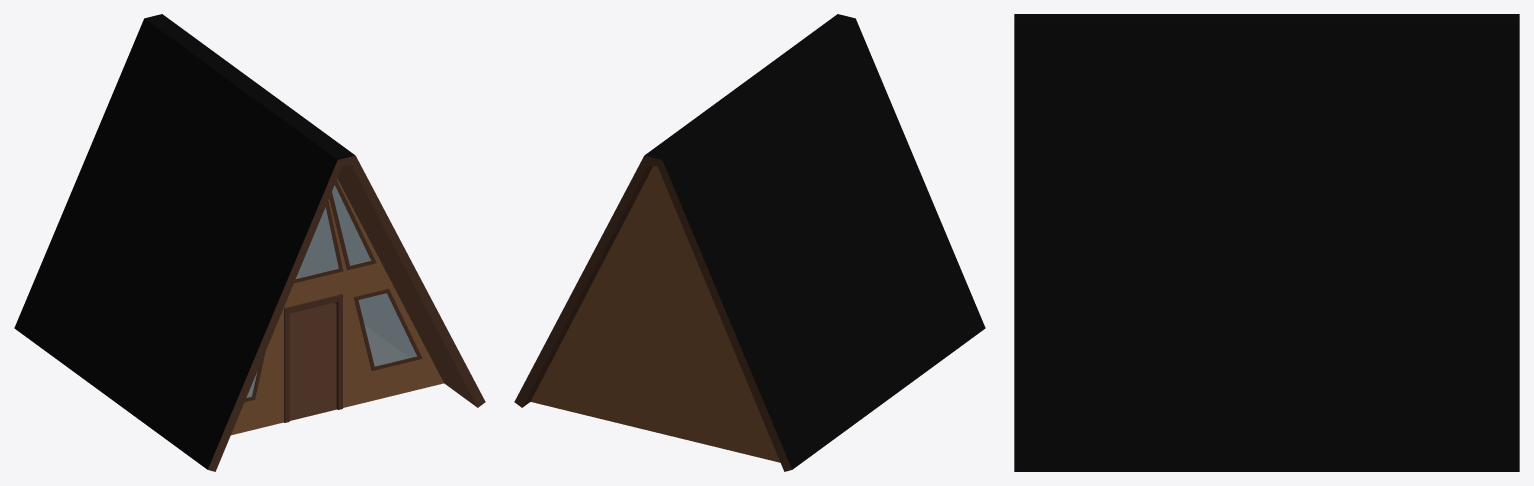
The model's file is 03c8666a-5de1-427b-b502-8b5f7aeed9e8.glb.
3 views of the same model, side by side, from view 1: azimuth 30°, elevation 25°; view 2: azimuth 150°, elevation 25°; view 3: azimuth 270°, elevation 25° (orthographic). The views are drawn at different scales.
Visible parts, largest first — view 1: Cabin; view 2: Cabin; view 3: Cabin.
Part boxes in pixels (x1,y1,x2,y2): Cabin: (14,14,485,471); Cabin: (514,14,985,471); Cabin: (1014,14,1519,471).
Size of what is drawn, in the model's own units: 6.36 by 6.17 by 7.67.
2 materials, 1 textured.
